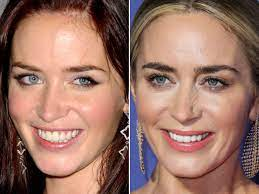n.blunt: (168, 84, 208, 124)
